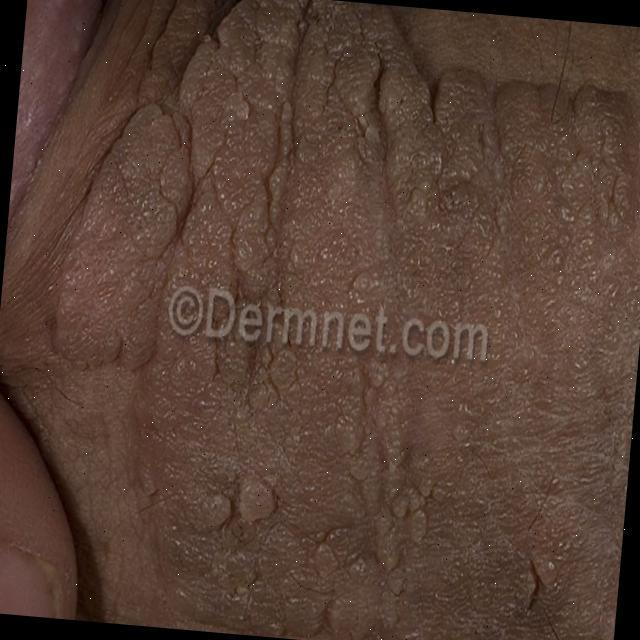Shingles: (56, 6, 573, 632)
